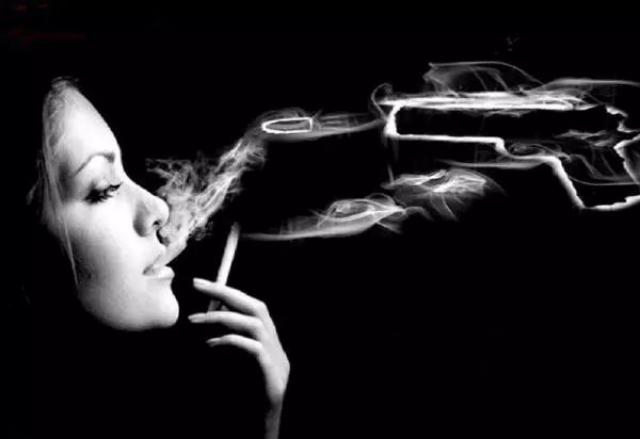Cigarette: (204, 220, 242, 309)
